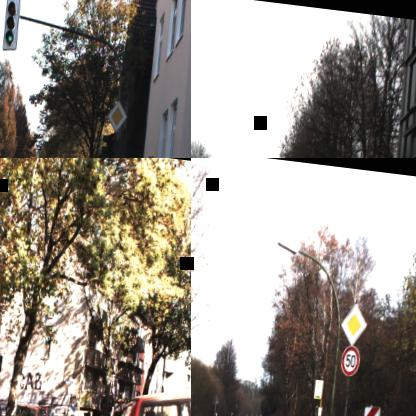priority road: (338, 302, 368, 346), (105, 97, 129, 134)
speed limit 50: (338, 344, 360, 378)
